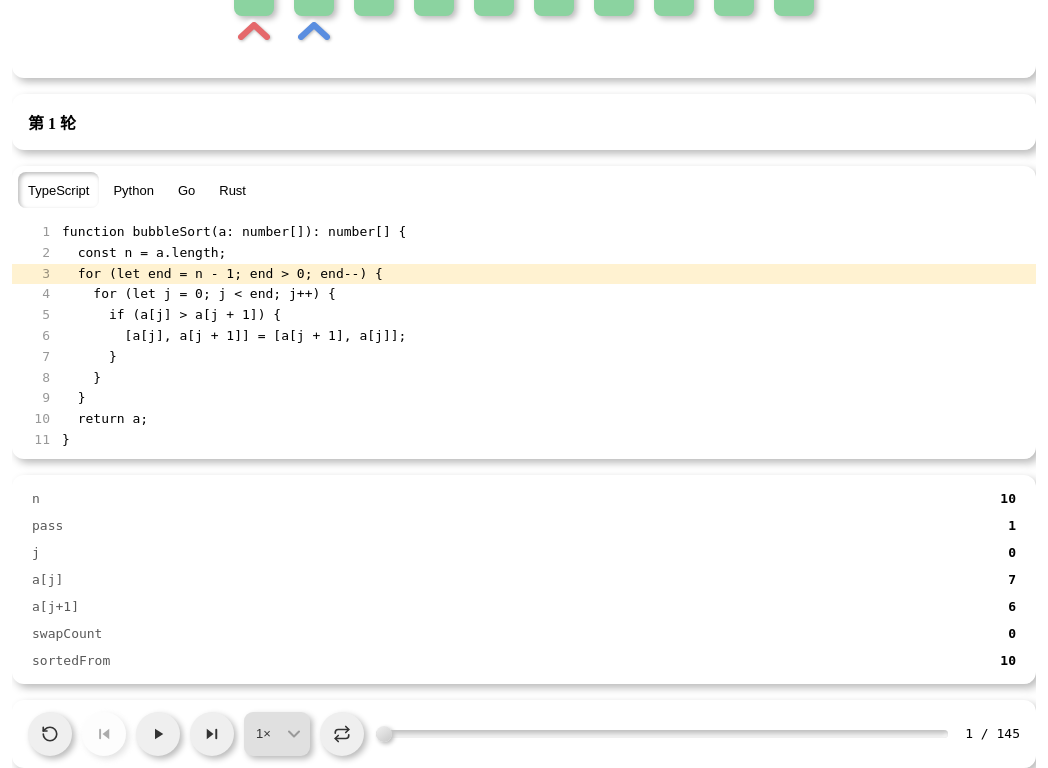
Test: AlgorithmPlayer › 自定义输入（C-110） › TC-PLAYER-INPUT-03 应用新输入 → steps 重建 + 回到第 0 步
This screenshot has width=1048, height=768.
(page scrolled)
Click the button titled "下一步" at (212, 734), box [190,712,234,756]
(page scrolled)
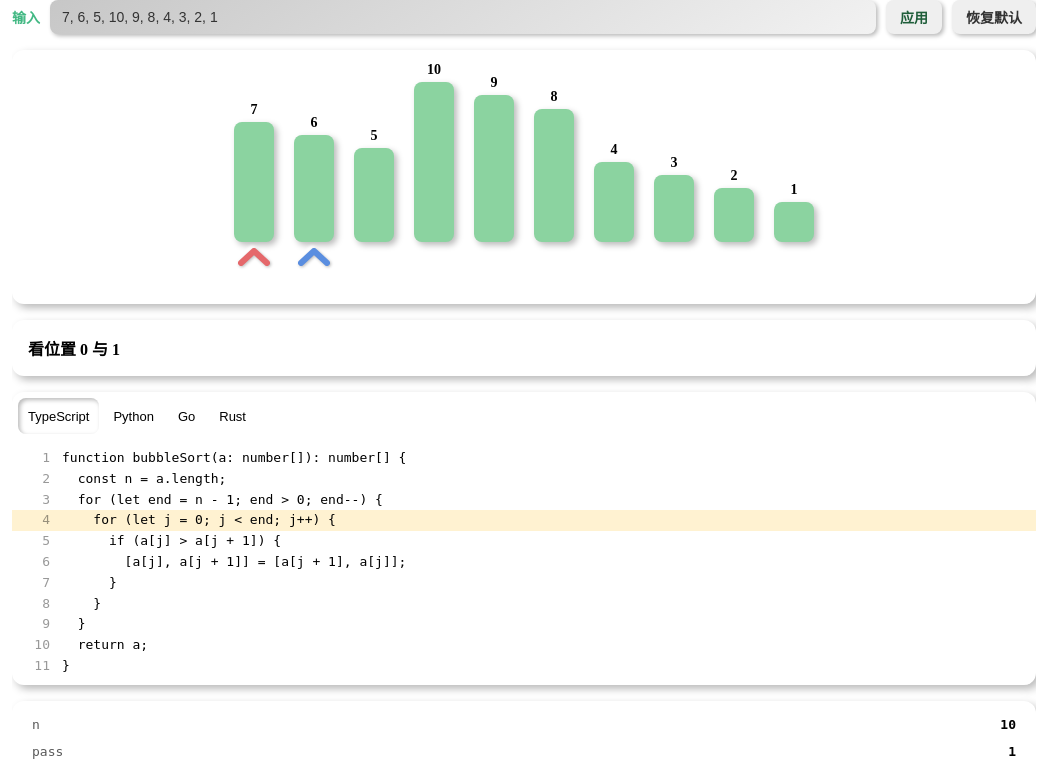
Replace the text in the field with class "ib-text" with "5, 3, 8, 1" at (463, 17), box [50,0,876,34]
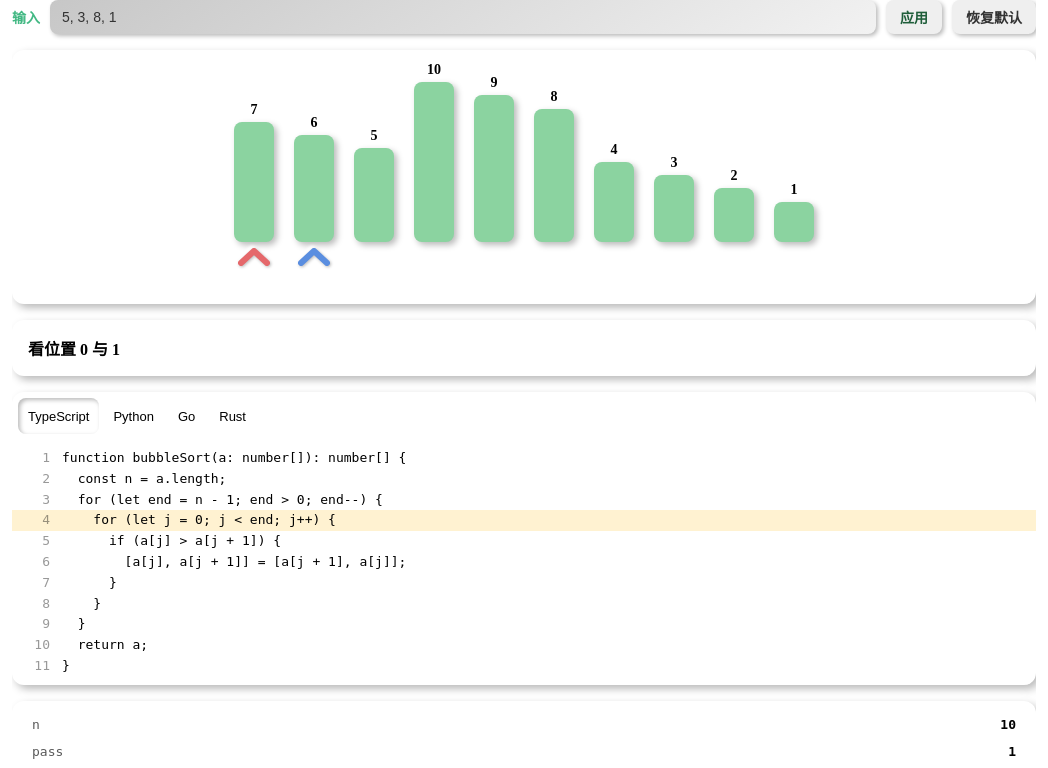
Click the button with class "ib-apply" at (914, 17), box [886,0,942,34]
(page scrolled)
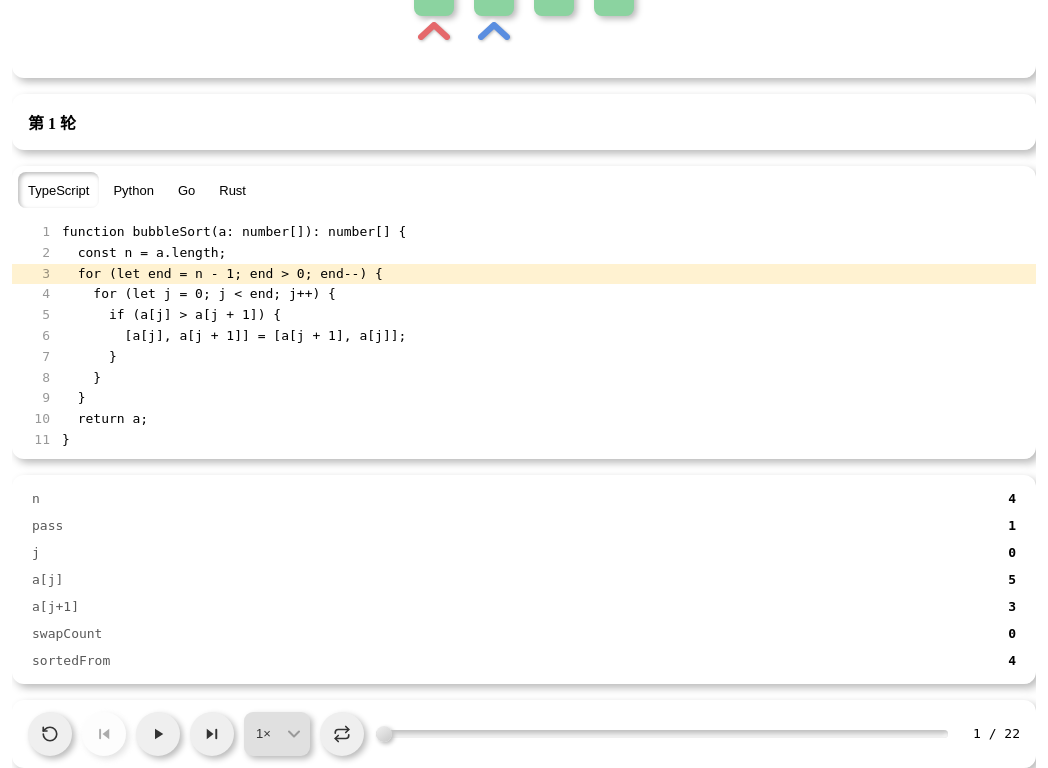
Result: the text with class "counter" shows "1 /" at [973,726,1020,741]
